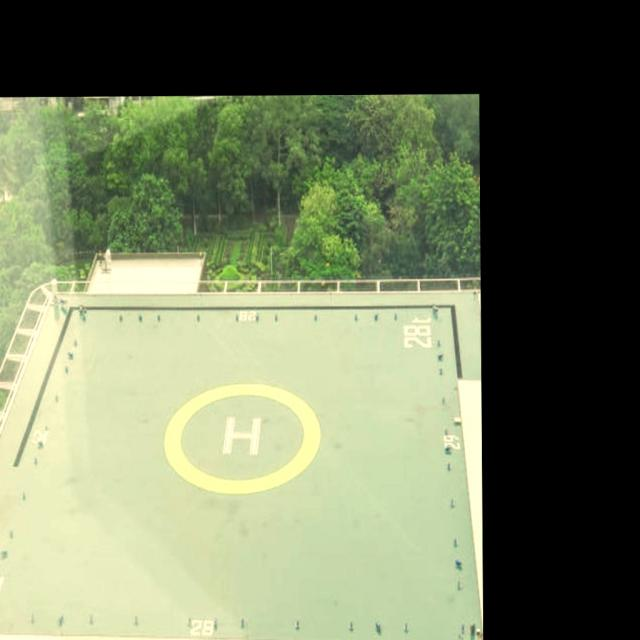helipad: (159, 379, 325, 498)
